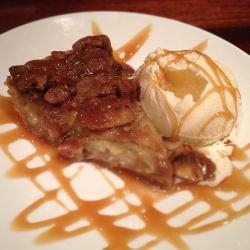apple_pie: (6, 31, 183, 191)
icecream: (133, 43, 246, 153)
